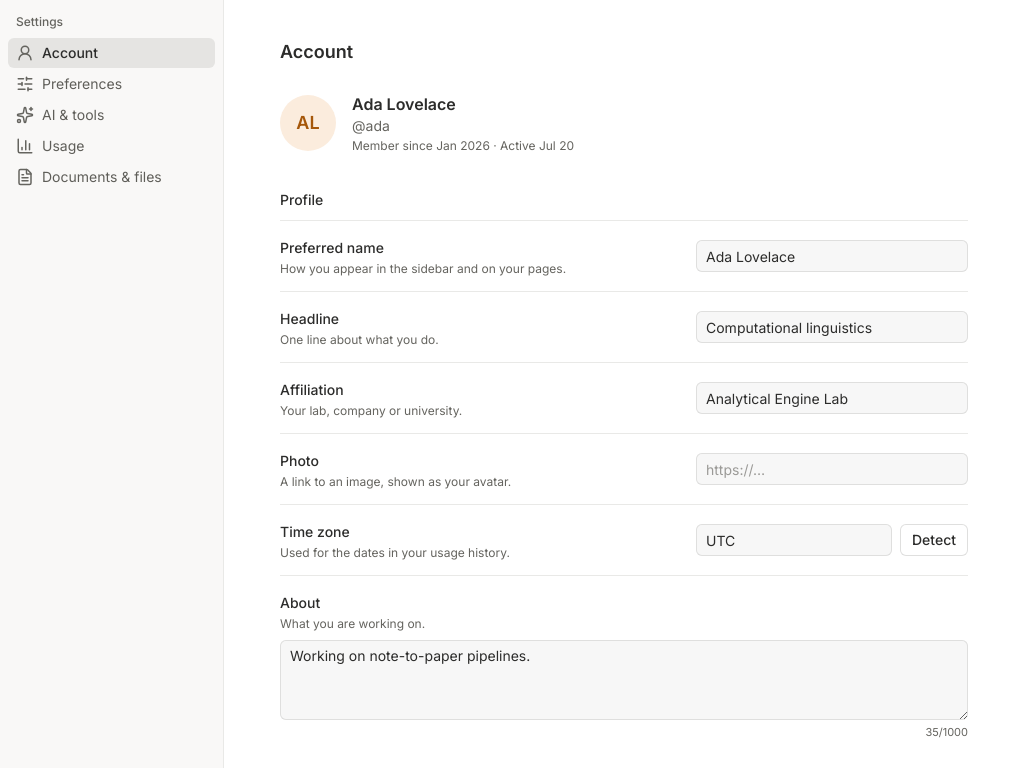
Test: ProfileView › renders the usage tiles from the summary
This screenshot has width=1024, height=768.
Expected: the heading "Ada Lovelace" is shown, [352,92,456,116]
Press the mouse on the tab "Usage" at [112, 146], box [8,131,215,161]
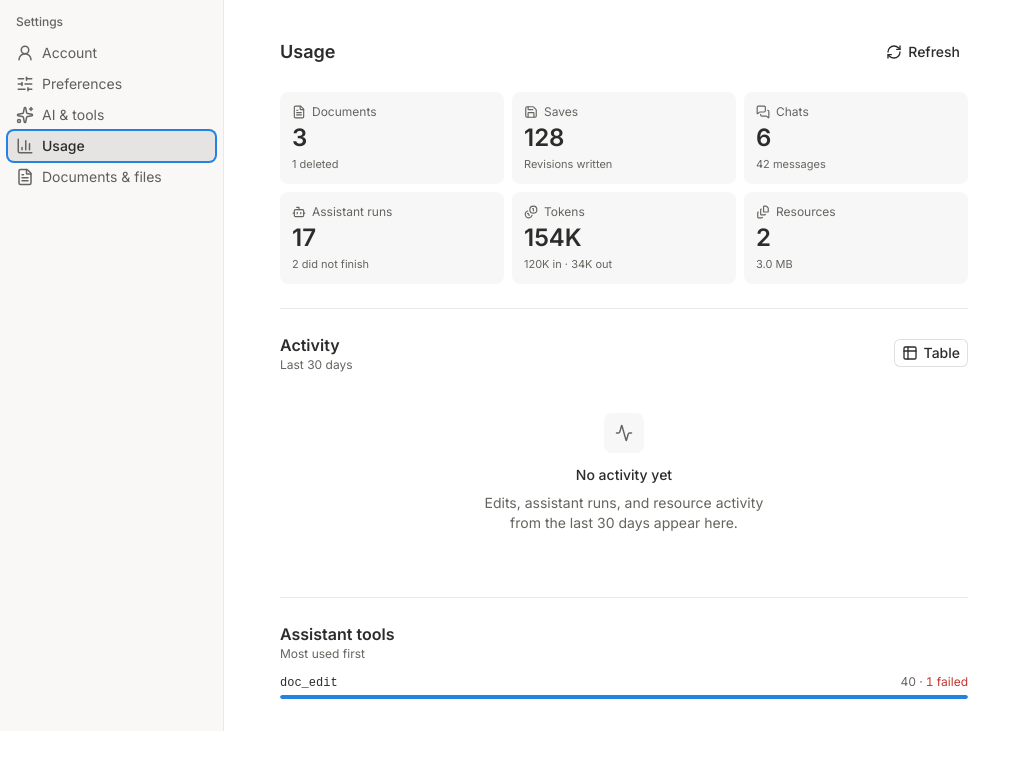
Now the text "Documents" is shown, box [312,104,376,120]
Now the text "Tokens" is shown, box [544,204,585,220]
Now the text "154K" is shown, box [524,223,582,252]
